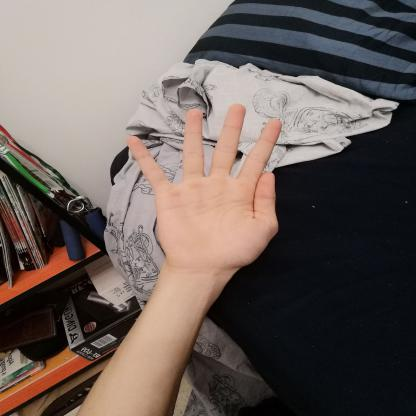SHEEN: (114, 98, 297, 278)
